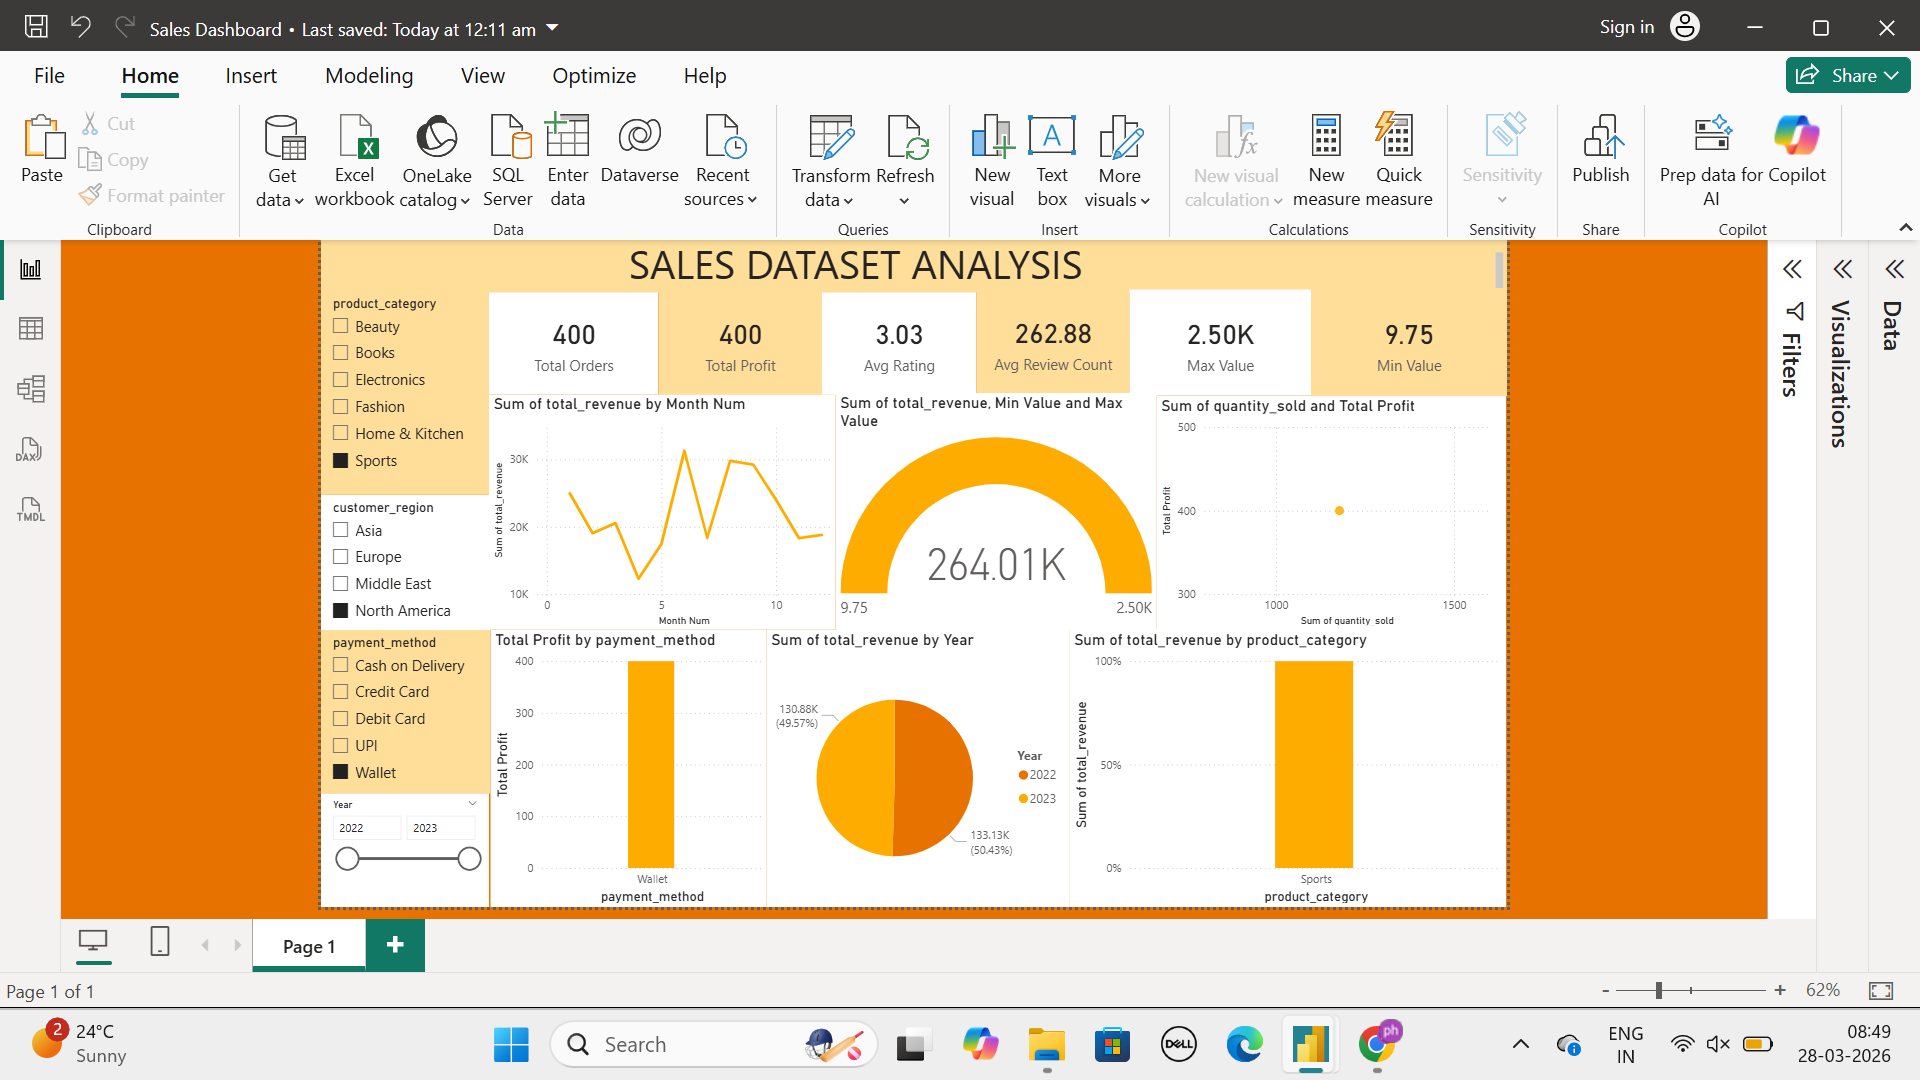

What the dashboard file says about the page in this screenshot:
{"tool":"powerbi","page":{"name":"Page 1","canvas":[1280,720],"ordinal":0},"visuals":[{"type":"card","fields":{"Values":["Sales_Dataset.Total Orders"]},"box":[181.4,53.4,183,113.3],"z":0},{"type":"card","fields":{"Values":["Sales_Dataset.Total Profit"]},"box":[364.3,55.1,176.5,111.7],"z":1000},{"type":"card","fields":{"Values":["Sales_Dataset.Avg Rating"]},"box":[540.8,55.1,166.8,111.7],"z":2000},{"type":"card","fields":{"Values":["Sales_Dataset.Avg Review Count"]},"box":[707.6,53.4,165.2,111.7],"z":3000},{"type":"textbox","box":[0,0,1280.8,56.7],"z":4000},{"type":"slicer","fields":{"Values":["Sales_Dataset.product_category"]},"box":[0,55.1,181.4,220.2],"z":5000},{"type":"slicer","fields":{"Values":["Sales_Dataset.customer_region"]},"box":[0,275.3,183,145.7],"z":6000},{"type":"slicer","fields":{"Values":["Sales_Dataset.payment_method"]},"box":[0,421,183,176.5],"z":7000},{"type":"slicer","fields":{"Values":["Sales_Dataset.Year"]},"box":[0,597.5,181.4,123.1],"z":8000},{"type":"lineChart","fields":{"Category":["Sales_Dataset.Month Num"],"Y":["Sum(Sales_Dataset.total_revenue)"]},"box":[181.4,166.8,374,254.2],"z":9000},{"type":"gauge","fields":{"Y":["Sum(Sales_Dataset.total_revenue)"],"MinValue":["Sales_Dataset.Min Value"],"MaxValue":["Sales_Dataset.Max Value"]},"box":[555.4,165.2,346.5,255.8],"z":10000},{"type":"pieChart","fields":{"Category":["Sales_Dataset.Year"],"Y":["Sum(Sales_Dataset.total_revenue)"]},"box":[480.9,421,327.1,299.6],"z":11000},{"type":"hundredPercentStackedColumnChart","fields":{"Category":["Sales_Dataset.product_category"],"Y":["Sum(Sales_Dataset.total_revenue)"]},"box":[808,421,471.2,299.6],"z":12000},{"type":"scatterChart","fields":{"X":["Sum(Sales_Dataset.quantity_sold)"],"Y":["Sales_Dataset.Total Profit"]},"box":[901.9,168.4,377.3,252.6],"z":13000},{"type":"card","fields":{"Values":["Sales_Dataset.Max Value"]},"box":[872.8,53.4,195.9,115],"z":14000},{"type":"card","fields":{"Values":["Sales_Dataset.Min Value"]},"box":[1068.3,51.7,211.7,116.7],"z":15000},{"type":"columnChart","fields":{"Category":["Sales_Dataset.payment_method"],"Y":["Sales_Dataset.Total Profit"]},"box":[183,421,297.9,299.6],"z":16000}]}

Visuals, with their boxes in screenshot pixels (x1, y1, x2, y2):
card - Sales_Dataset.Total Orders: x1=314 y1=46 x2=575 y2=208
card - Sales_Dataset.Total Profit: x1=575 y1=49 x2=827 y2=208
card - Sales_Dataset.Avg Rating: x1=827 y1=49 x2=1065 y2=208
card - Sales_Dataset.Avg Review Count: x1=1065 y1=46 x2=1300 y2=206
textbox: x1=55 y1=0 x2=1882 y2=51
slicer - Sales_Dataset.product_category: x1=55 y1=49 x2=314 y2=363
slicer - Sales_Dataset.customer_region: x1=55 y1=363 x2=316 y2=571
slicer - Sales_Dataset.payment_method: x1=55 y1=571 x2=316 y2=823
slicer - Sales_Dataset.Year: x1=55 y1=823 x2=314 y2=998
lineChart - Sales_Dataset.Month Num x Sum(Sales_Dataset.total_revenue): x1=314 y1=208 x2=847 y2=571
gauge - Sum(Sales_Dataset.total_revenue) x Sales_Dataset.Min Value: x1=847 y1=206 x2=1342 y2=571
pieChart - Sales_Dataset.Year x Sum(Sales_Dataset.total_revenue): x1=741 y1=571 x2=1208 y2=998
hundredPercentStackedColumnChart - Sales_Dataset.product_category x Sum(Sales_Dataset.total_revenue): x1=1208 y1=571 x2=1880 y2=998
scatterChart - Sum(Sales_Dataset.quantity_sold) x Sales_Dataset.Total Profit: x1=1342 y1=210 x2=1880 y2=571
card - Sales_Dataset.Max Value: x1=1300 y1=46 x2=1580 y2=210
card - Sales_Dataset.Min Value: x1=1579 y1=44 x2=1881 y2=210
columnChart - Sales_Dataset.payment_method x Sales_Dataset.Total Profit: x1=316 y1=571 x2=741 y2=998
